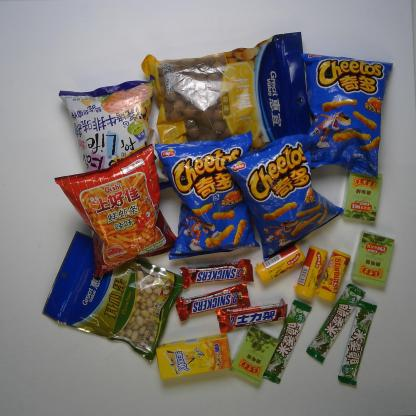Candy: (226, 324, 282, 390), (349, 226, 397, 292), (340, 161, 387, 225), (254, 242, 310, 286), (290, 244, 331, 302), (315, 246, 353, 304)
Chocolate: (302, 283, 368, 365), (258, 296, 314, 384), (337, 300, 386, 388), (176, 280, 256, 326), (176, 259, 260, 292), (215, 301, 293, 334)
Dried Food: (133, 29, 334, 166)
Dried Fruit: (39, 222, 187, 366)
Drink: (156, 332, 237, 382)
Puffed Food: (49, 143, 183, 278), (52, 76, 174, 210), (230, 133, 351, 261), (291, 44, 399, 182), (156, 128, 262, 264)
